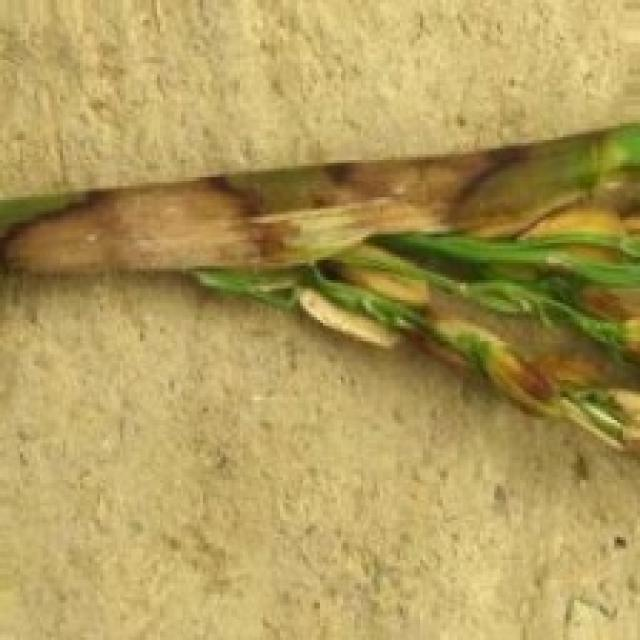Bacterial_Blight: (0, 168, 289, 280), (314, 142, 518, 232)
